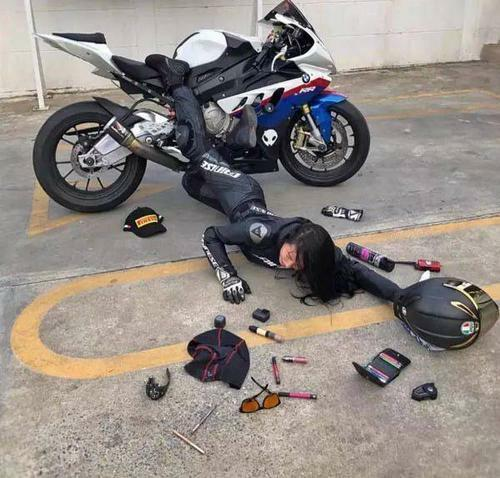Fall-Detected: (125, 40, 427, 327)
